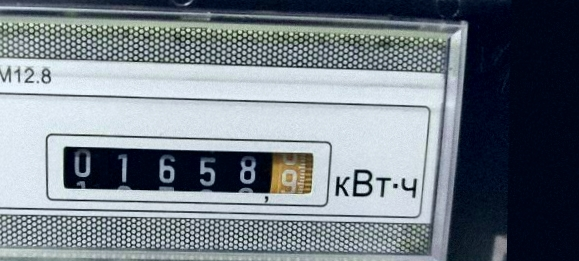0: (72, 147, 92, 177)
1: (115, 151, 132, 183)
5: (196, 154, 218, 186)
6: (157, 150, 177, 184)
8: (238, 152, 258, 184)
9: (277, 167, 299, 195)
screen: (35, 124, 337, 213)
